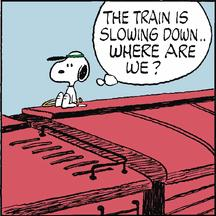snoopy: (46, 51, 90, 109)
